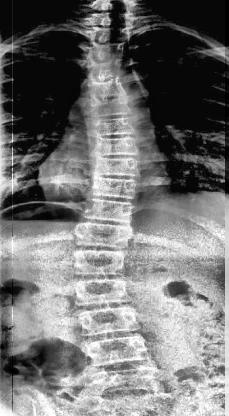Vertebrae: (78, 217, 140, 249), (92, 368, 160, 394), (70, 246, 128, 276), (90, 336, 150, 364), (79, 306, 139, 334), (77, 279, 129, 303), (83, 198, 135, 222), (92, 175, 140, 199), (92, 116, 138, 138), (96, 156, 139, 178), (89, 79, 128, 101), (93, 138, 139, 156), (91, 96, 132, 115), (84, 44, 126, 62), (88, 28, 132, 44), (90, 58, 123, 78)
